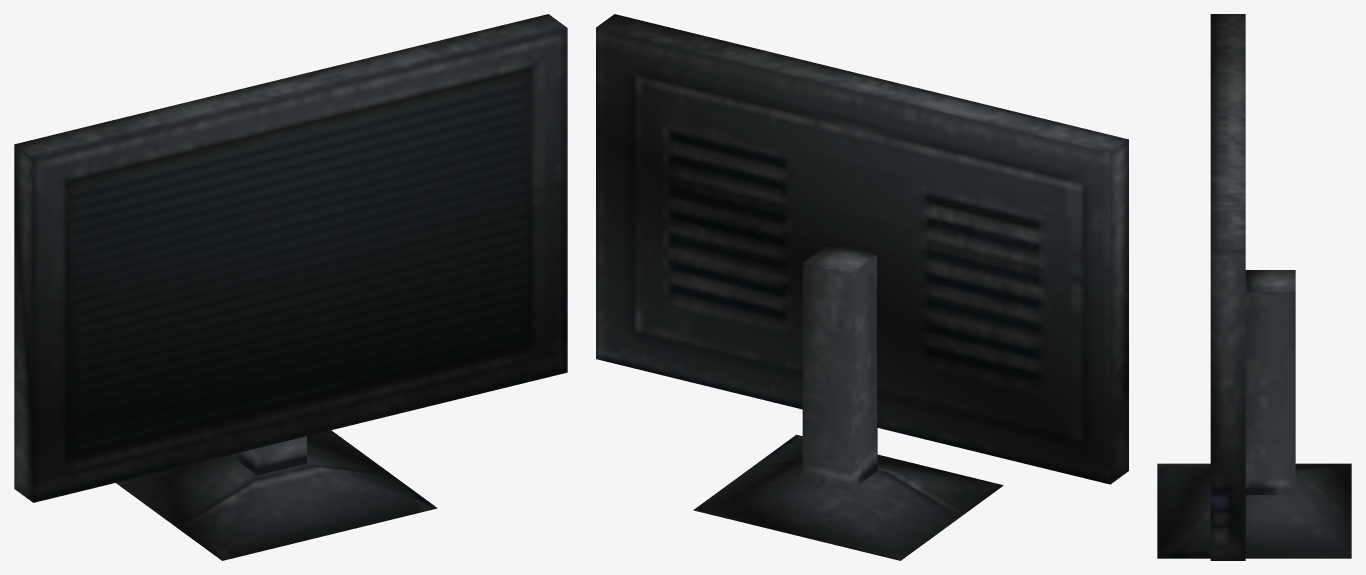
The model's file is computer-monitor.glb.
3 renders of one model, left to right at view 1: azimuth 30°, elevation 25°; view 2: azimuth 150°, elevation 25°; view 3: azimuth 270°, elevation 25°, orthographic. The views are drawn at different scales.
Parts seen in each view (by area): view 1: Cube.001, Cube.002; view 2: Cube.001, Cube.002; view 3: Cube.002, Cube.001.
Boxes of the visible parts, x1=… form: Cube.001: x1=14, y1=14, x2=567, y2=502; Cube.002: x1=116, y1=430, x2=437, y2=560; Cube.001: x1=596, y1=14, x2=1128, y2=484; Cube.002: x1=693, y1=243, x2=1003, y2=560; Cube.002: x1=1157, y1=270, x2=1351, y2=558; Cube.001: x1=1210, y1=14, x2=1245, y2=560.
Bounding box in the file's own units: 0.5814 × 0.4364 × 0.2024.
Materials: 1 (1 with a texture image).
